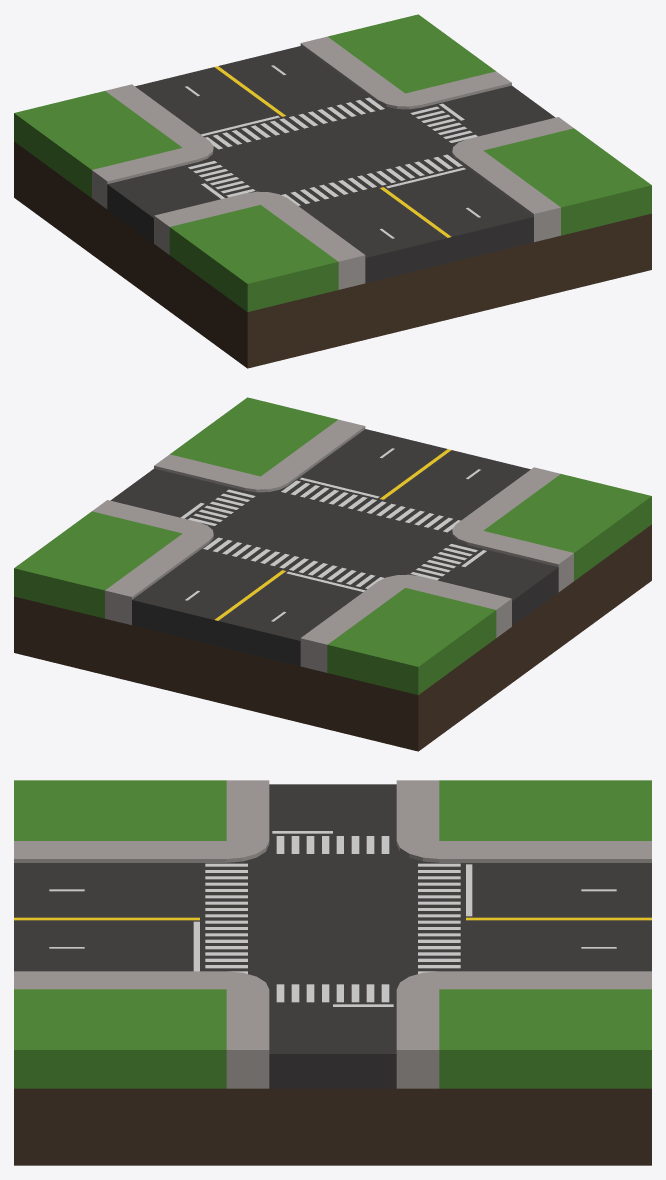
File: tiles_tile-road-mainroad-intersection.fbx
The picture shows the model from 3 angles, top to bottom: view 1: azimuth 30°, elevation 25°; view 2: azimuth 150°, elevation 25°; view 3: azimuth 270°, elevation 25°; orthographic projection. The views are drawn at different scales.
Parts seen in each view (by area): view 1: tiles_tile_road_mainroad_intersection; view 2: tiles_tile_road_mainroad_intersection; view 3: tiles_tile_road_mainroad_intersection.
Boxes of the visible parts, x1=… form: tiles_tile_road_mainroad_intersection: x1=14, y1=14, x2=651, y2=368; tiles_tile_road_mainroad_intersection: x1=14, y1=397, x2=651, y2=751; tiles_tile_road_mainroad_intersection: x1=14, y1=780, x2=651, y2=1165.
Size of the model in its own units: 200 by 40 by 200.
